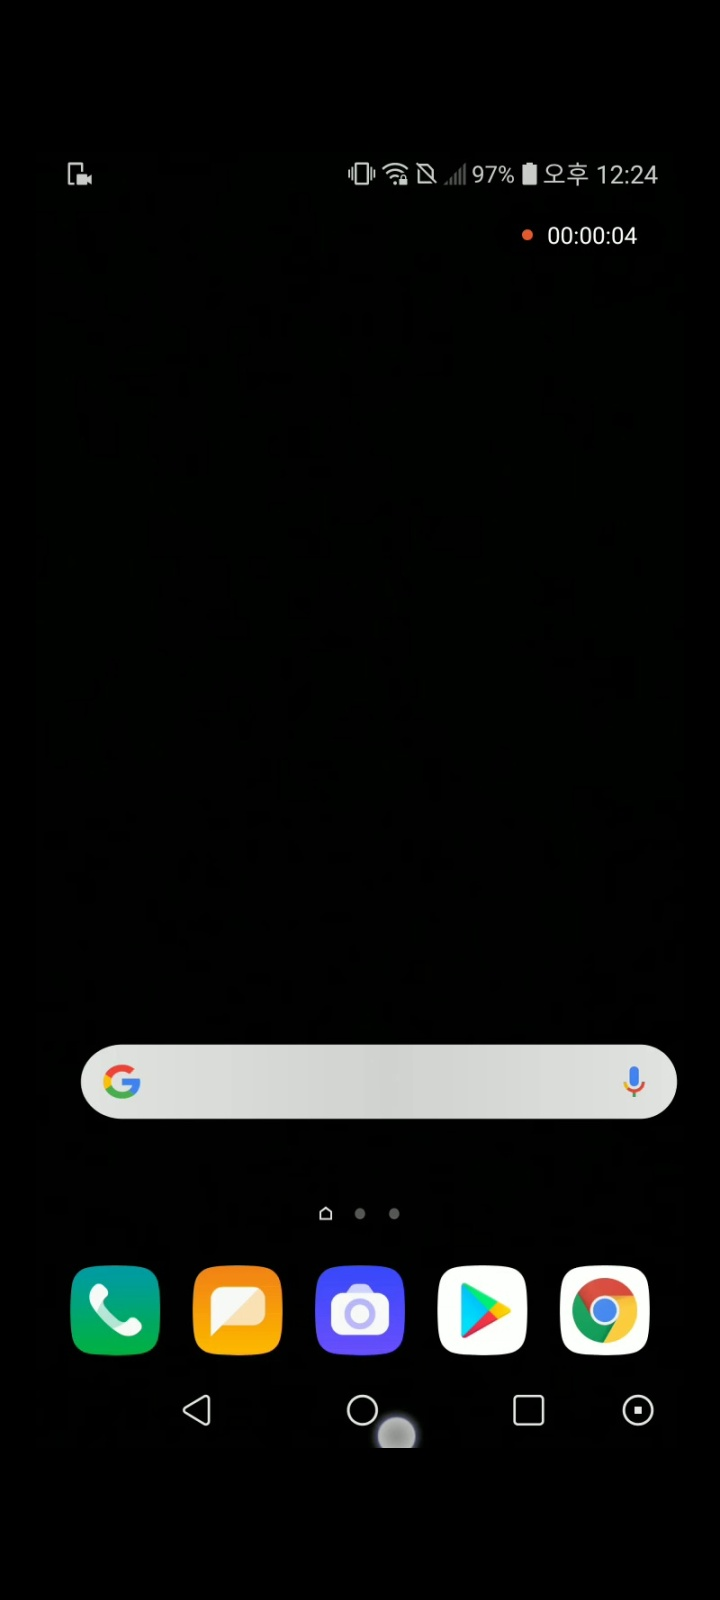Cursor: (377, 1409, 423, 1448)
